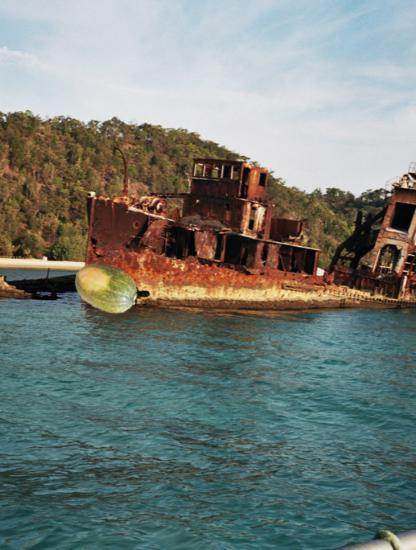Melon: (75, 252, 141, 318)
